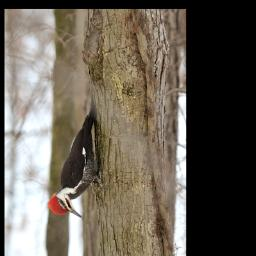Woodpecker: (46, 88, 108, 219)
